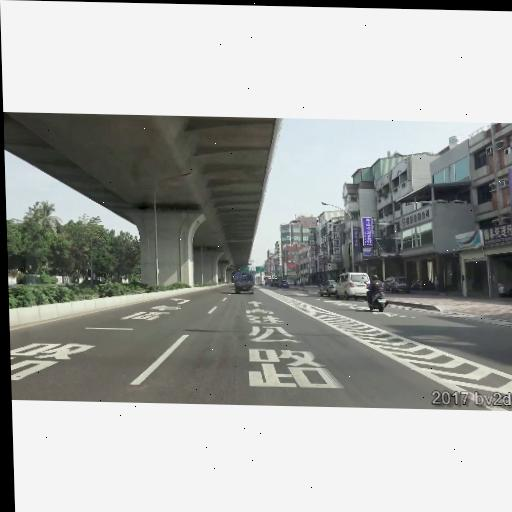Car: (335, 272, 371, 301), (234, 273, 255, 294), (320, 279, 339, 297), (279, 282, 290, 289)
